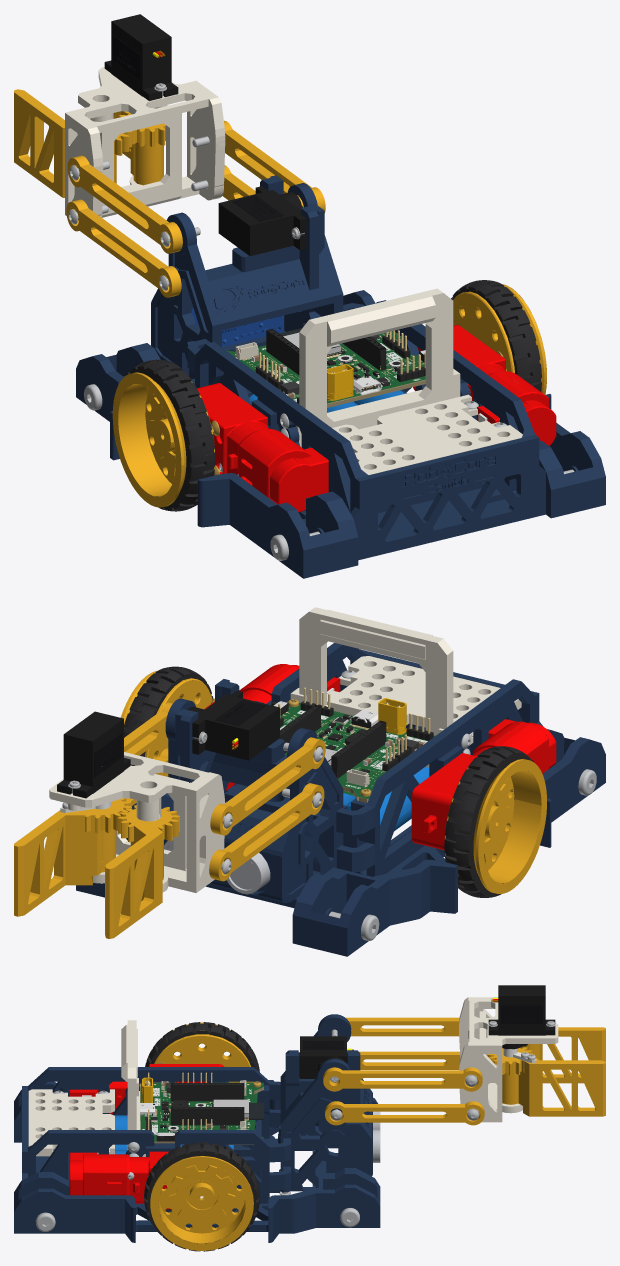
Rendered from robocore-v3-parts.glb.
3 renders of one model, top to bottom at view 1: azimuth 30°, elevation 25°; view 2: azimuth 150°, elevation 25°; view 3: azimuth 270°, elevation 25°, orthographic. The views are drawn at different scales.
Parts seen in each view (by area): view 1: robot_body, lift_head, wheel_L, wheel_R, lift_arm, jaw_L, lift_link, jaw_R; view 2: robot_body, lift_head, wheel_L, jaw_R, jaw_L, lift_arm, wheel_R, lift_link; view 3: robot_body, wheel_R, lift_head, jaw_R, lift_arm, lift_link, wheel_L, jaw_L.
Boxes of the visible parts, x1,y1,x2,y2 form: robot_body: [76, 175, 605, 578]; lift_head: [65, 14, 225, 224]; wheel_L: [112, 359, 215, 511]; wheel_R: [451, 280, 546, 394]; lift_arm: [67, 120, 325, 253]; jaw_L: [14, 89, 132, 197]; lift_link: [66, 165, 255, 297]; jaw_R: [113, 111, 165, 185]; robot_body: [76, 607, 605, 956]; lift_head: [49, 711, 232, 892]; wheel_L: [444, 746, 546, 897]; jaw_R: [14, 798, 131, 916]; jaw_L: [105, 805, 179, 938]; lift_arm: [124, 702, 325, 835]; wheel_R: [120, 666, 213, 765]; lift_link: [126, 748, 324, 881]; robot_body: [14, 1014, 380, 1242]; wheel_R: [144, 1142, 259, 1251]; lift_head: [459, 985, 558, 1122]; jaw_R: [487, 1047, 605, 1116]; lift_arm: [323, 1017, 482, 1091]; lift_link: [325, 1051, 484, 1125]; wheel_L: [145, 1022, 259, 1082]; jaw_L: [520, 1027, 605, 1083].
Size of the model in its own units: 0.1536 by 0.1105 by 0.2858.
